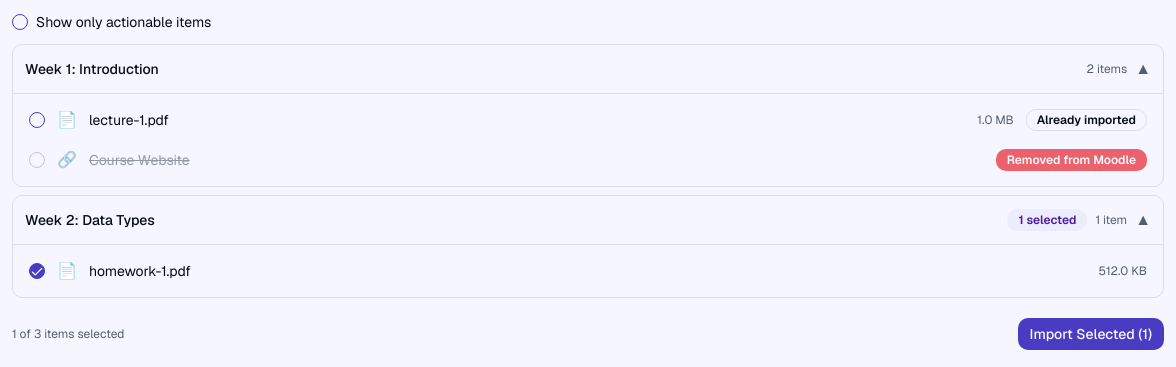
Test: MoodleFilePicker › filters out non-actionable items when "Show only actionable" is toggled
Expected: the text "lecture-1.pdf" is shown, [89,111,169,129]
Expected: the text "Course Website" is shown, [89,151,190,169]
Step 1. Click the checkbox named "show only actionable items" → (20, 22), box [12,14,28,30]
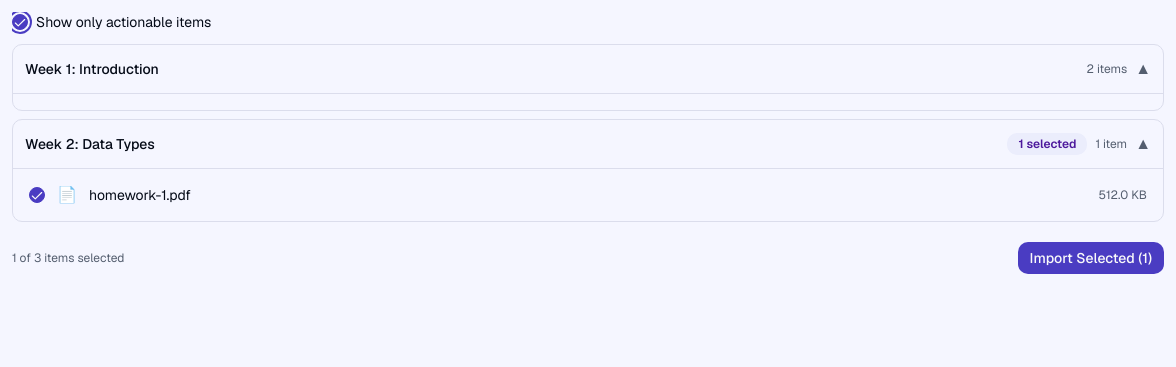
Expected: the text "homework-1.pdf" is shown, [89,186,191,204]
Expected: the text "lecture-1.pdf" is gone
Expected: the text "Course Website" is gone
